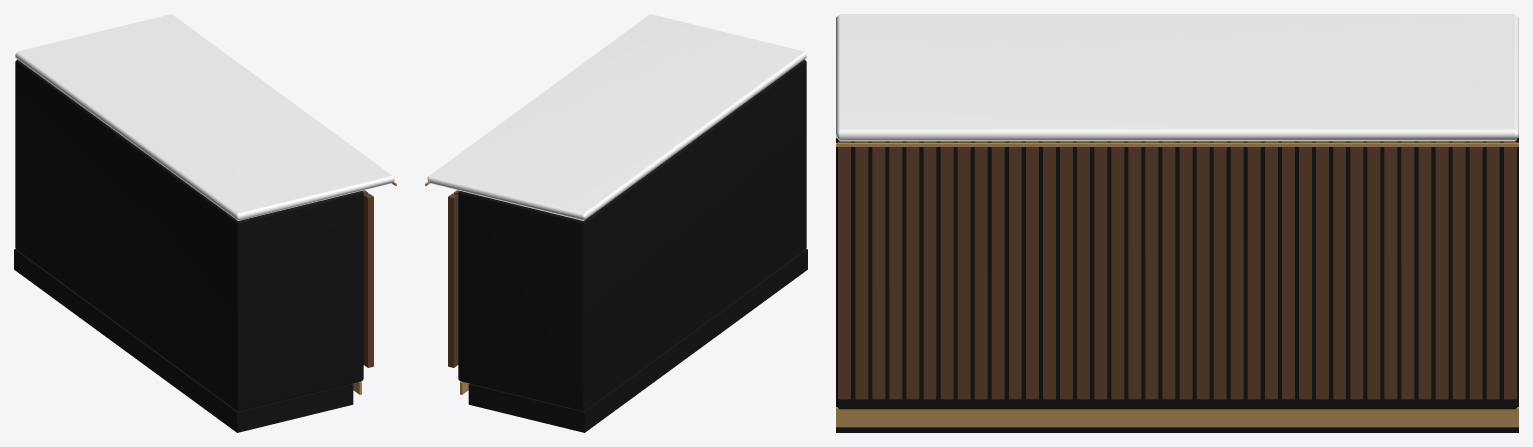
File: counter_module.glb
The picture shows the model from 3 angles, left to right: view 1: azimuth 30°, elevation 25°; view 2: azimuth 150°, elevation 25°; view 3: azimuth 270°, elevation 25°; orthographic projection. The views are drawn at different scales.
Visible parts, largest first — view 1: Mesh_Carcass, Mesh_Top, Mesh_Plinth, Mesh_Slat39; view 2: Mesh_Carcass, Mesh_Top, Mesh_Plinth, Mesh_Slat0; view 3: Mesh_Top, Mesh_Carcass, Mesh_Kick, Mesh_Plinth, Mesh_Slat1, Mesh_Slat2, Mesh_Slat3, Mesh_Slat4, Mesh_Slat6, Mesh_Slat7, Mesh_Slat8, Mesh_Slat9 (+33 smaller).
Boxes of the visible parts, <box> form: Mesh_Carcass: <box>15,59,363,411</box>; Mesh_Top: <box>15,14,394,220</box>; Mesh_Plinth: <box>14,249,353,432</box>; Mesh_Slat39: <box>363,193,373,367</box>; Mesh_Carcass: <box>458,59,806,411</box>; Mesh_Top: <box>427,14,806,220</box>; Mesh_Plinth: <box>468,249,807,432</box>; Mesh_Slat0: <box>448,193,458,367</box>; Mesh_Top: <box>836,14,1518,141</box>; Mesh_Carcass: <box>836,138,1518,409</box>; Mesh_Kick: <box>836,407,1518,427</box>; Mesh_Plinth: <box>836,406,1518,432</box>; Mesh_Slat1: <box>1486,141,1499,399</box>; Mesh_Slat2: <box>1469,141,1482,399</box>; Mesh_Slat3: <box>1452,141,1465,399</box>; Mesh_Slat4: <box>1435,141,1448,399</box>; Mesh_Slat6: <box>1401,141,1414,399</box>; Mesh_Slat7: <box>1384,141,1397,399</box>; Mesh_Slat8: <box>1367,141,1380,399</box>; Mesh_Slat9: <box>1350,141,1363,399</box>.
Size of the model in its own units: 0.826 by 1.08 by 2.
